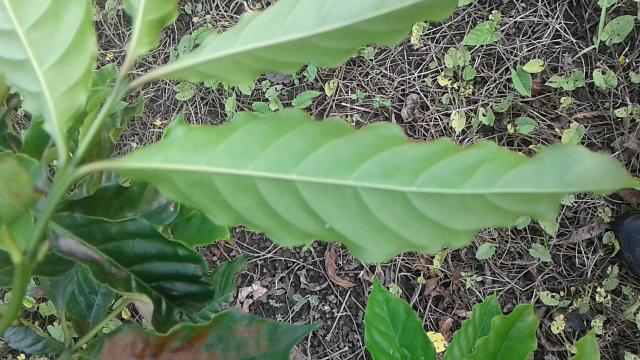healthy: (104, 108, 632, 262)
